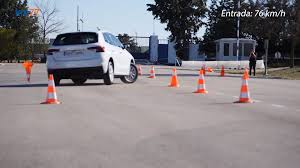car: (48, 30, 139, 86)
cone: (239, 75, 251, 103), (46, 74, 56, 103), (22, 62, 33, 84), (196, 71, 206, 94), (169, 69, 180, 87), (149, 66, 156, 78), (220, 66, 226, 77), (137, 65, 143, 75)
